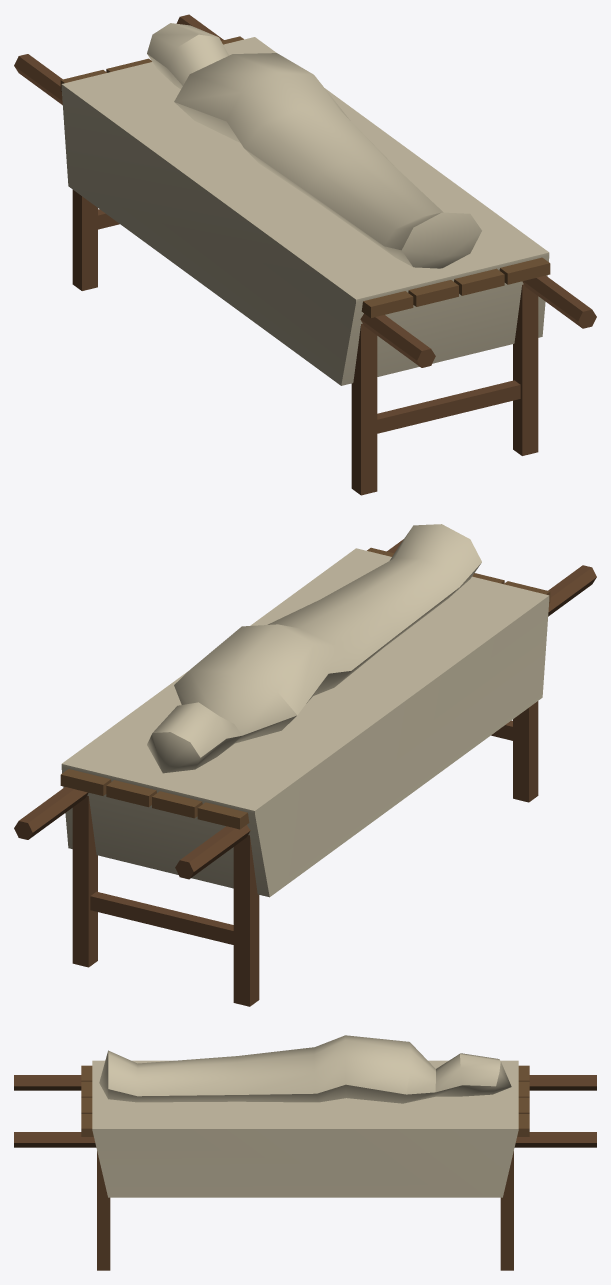
Rendered from ShroudedBody.fbx.
3 views of the same model, one above another, from view 1: azimuth 30°, elevation 25°; view 2: azimuth 150°, elevation 25°; view 3: azimuth 270°, elevation 25° (orthographic). The views are drawn at different scales.
Parts seen in each view (by area): view 1: ShroudedBody; view 2: ShroudedBody; view 3: ShroudedBody.
Boxes of the visible parts, bbox=[...] form: ShroudedBody: bbox=[14, 14, 596, 495]; ShroudedBody: bbox=[14, 524, 596, 1006]; ShroudedBody: bbox=[14, 1035, 596, 1270].
Size of the model in its own units: 0.75 by 0.98 by 2.6.
